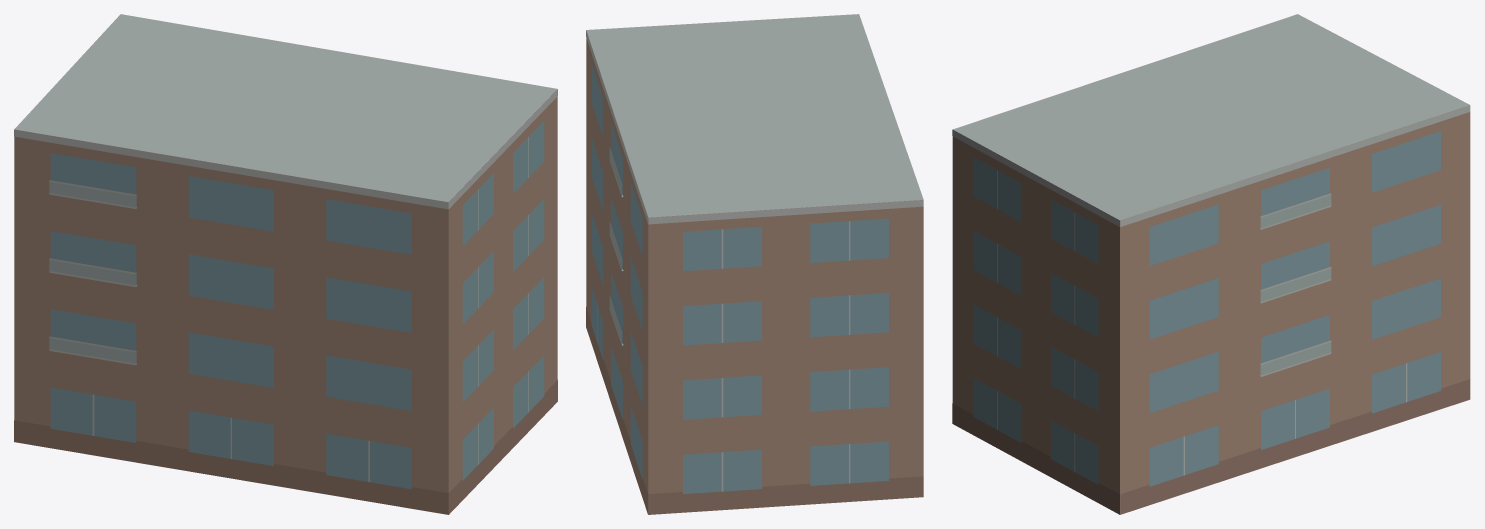
File: survey-upis-32742603.glb
3 views of the same model, side by side, from view 1: azimuth 30°, elevation 25°; view 2: azimuth 150°, elevation 25°; view 3: azimuth 270°, elevation 25° (orthographic). The views are drawn at different scales.
Parts seen in each view (by area): view 1: survey-upis-32742603.tmp; view 2: survey-upis-32742603.tmp; view 3: survey-upis-32742603.tmp.
Boxes of the visible parts, left/top/right/bottom form: survey-upis-32742603.tmp: left=14, top=14, right=557, bottom=514; survey-upis-32742603.tmp: left=586, top=14, right=923, bottom=514; survey-upis-32742603.tmp: left=952, top=14, right=1470, bottom=514.
Bounding box in the file's own units: 16.1 × 10.7 × 17.06.
